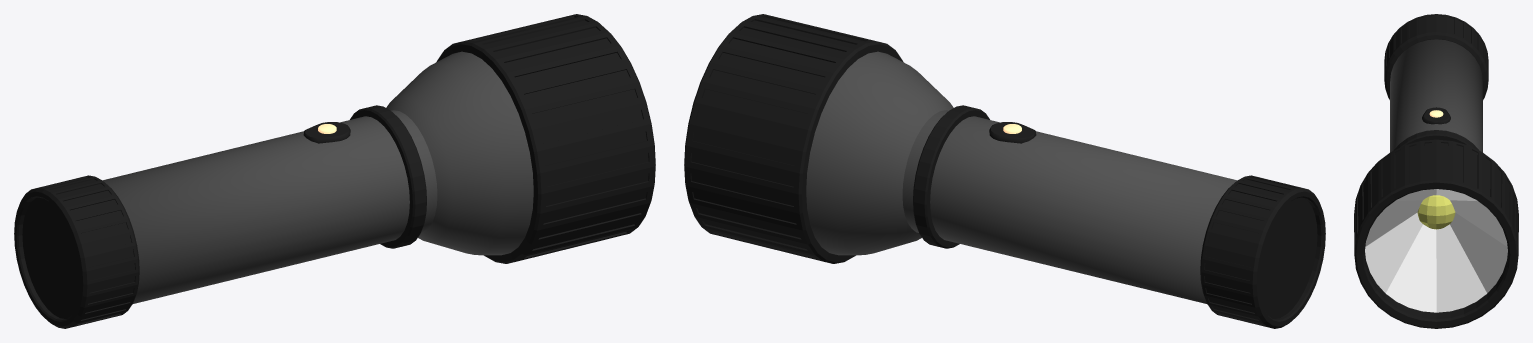
Rendered from Flashlight5.fbx.
The picture shows the model from 3 angles, left to right: view 1: azimuth 30°, elevation 25°; view 2: azimuth 150°, elevation 25°; view 3: azimuth 270°, elevation 25°; orthographic projection. The views are drawn at different scales.
Visible parts, largest first — view 1: Flashlight; view 2: Flashlight; view 3: Flashlight.
Part boxes in pixels (box(x1,y1,x2,y2)): Flashlight: box(14, 14, 655, 328); Flashlight: box(684, 14, 1325, 328); Flashlight: box(1354, 14, 1518, 328).
Size of the model in its own units: 41.21 by 14.74 by 14.74.
